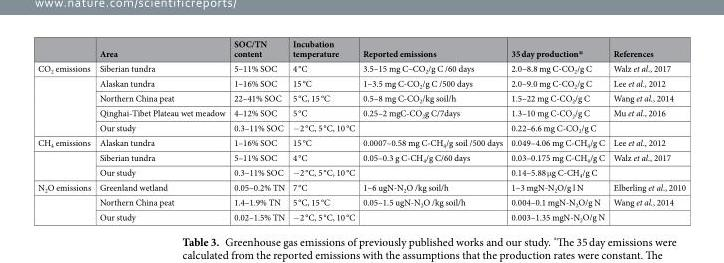table: (37, 37, 685, 223)
table column: (358, 37, 506, 223), (94, 37, 228, 223), (506, 37, 608, 223), (608, 37, 685, 223), (288, 37, 358, 223), (228, 37, 288, 223), (37, 37, 94, 223)
table column header: (37, 37, 685, 60)
table row: (37, 37, 685, 60), (37, 60, 685, 75), (37, 75, 685, 90), (37, 90, 685, 105), (37, 105, 685, 120), (37, 120, 685, 135), (37, 149, 685, 164), (37, 164, 685, 179), (37, 179, 685, 194), (37, 194, 685, 209), (37, 135, 685, 149), (37, 209, 685, 223)
table spanning cell: (37, 60, 94, 135), (37, 135, 94, 179), (37, 179, 94, 223)
